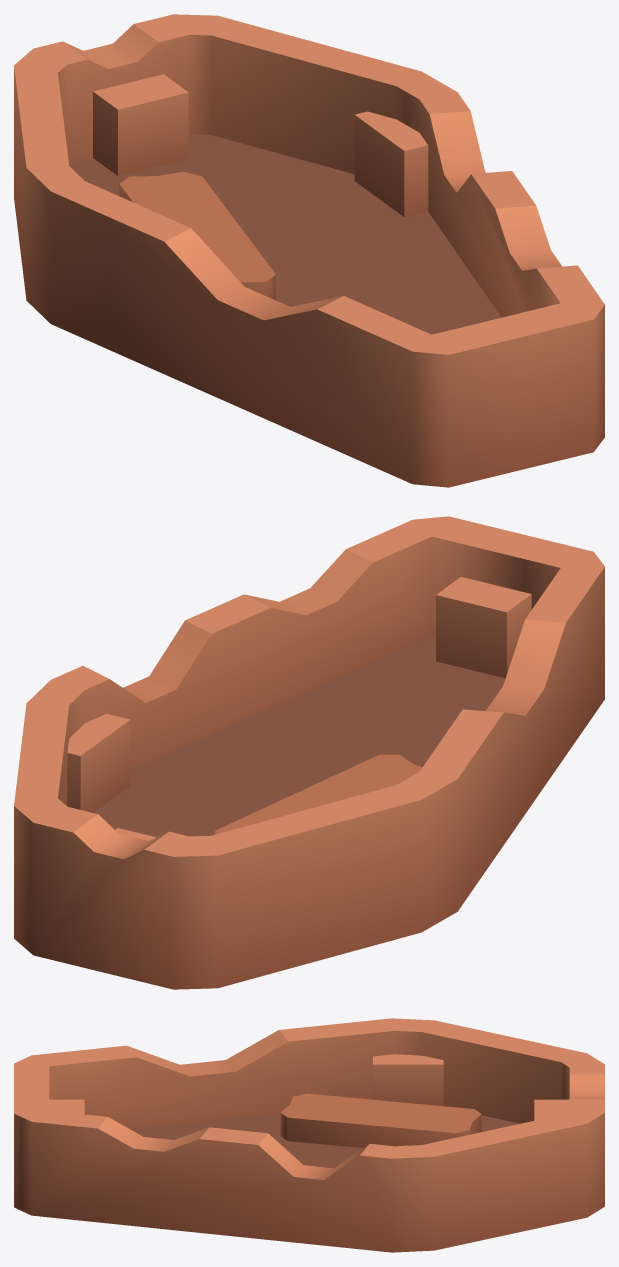
The model's file is coffin-old_lev1_lev2.glb.
3 views of the same model, one above another, from view 1: azimuth 30°, elevation 25°; view 2: azimuth 150°, elevation 25°; view 3: azimuth 270°, elevation 25° (orthographic). The views are drawn at different scales.
Visible parts, largest first — view 1: coffin-old_lev1_lev2; view 2: coffin-old_lev1_lev2; view 3: coffin-old_lev1_lev2.
Part boxes in pixels (<box>): coffin-old_lev1_lev2: <box>14,14,604,487</box>; coffin-old_lev1_lev2: <box>14,516,604,989</box>; coffin-old_lev1_lev2: <box>14,1018,604,1252</box>.
Size of the model in its own units: 0.8148 by 0.254 by 1.45.
Materials: 1 (1 with a texture image).
